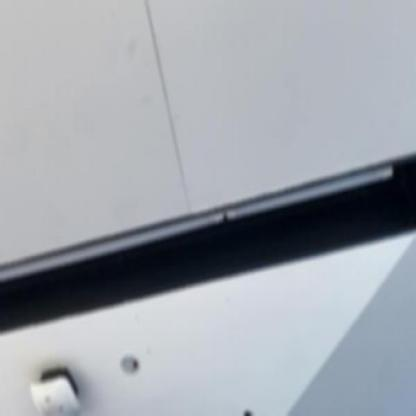light_off: (0, 135, 398, 313)
